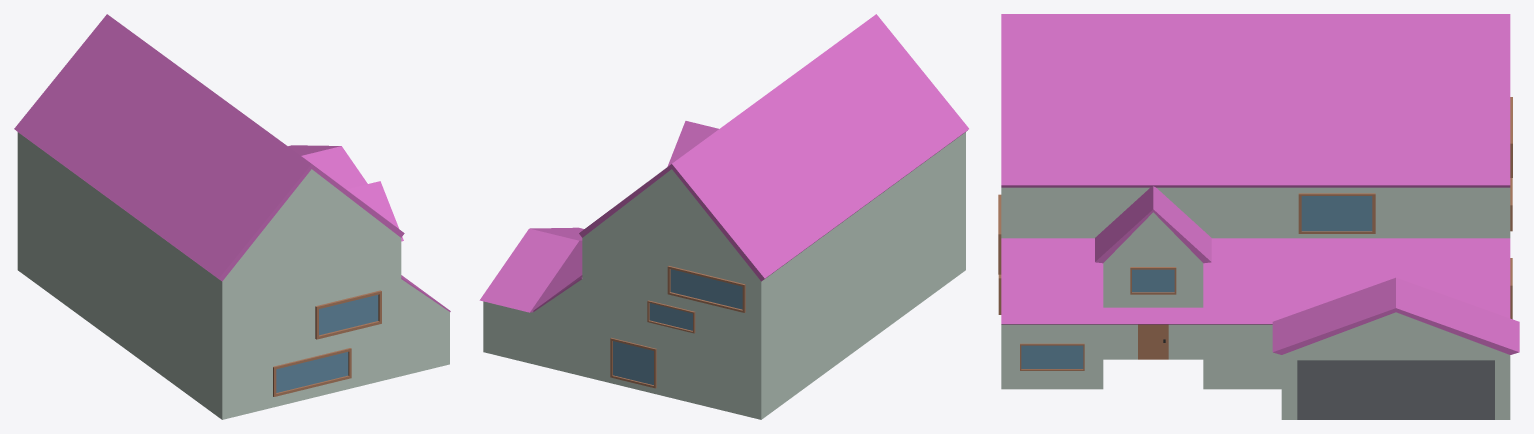
File: House3.fbx
3 views of the same model, side by side, from view 1: azimuth 30°, elevation 25°; view 2: azimuth 150°, elevation 25°; view 3: azimuth 270°, elevation 25° (orthographic). The views are drawn at different scales.
Visible parts, largest first — view 1: House; view 2: House; view 3: House.
Boxes of the visible parts, x1,y1,x2,y2 form: House: [14, 14, 450, 419]; House: [479, 14, 968, 419]; House: [998, 14, 1519, 419].
Bounding box in the file's own units: 1121 × 891 × 1444.
